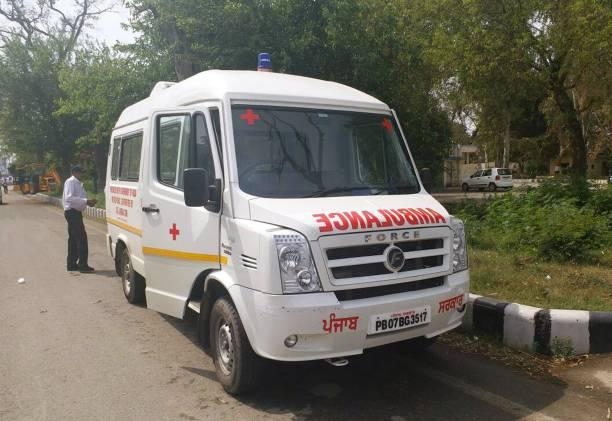ER: (105, 54, 469, 395)
